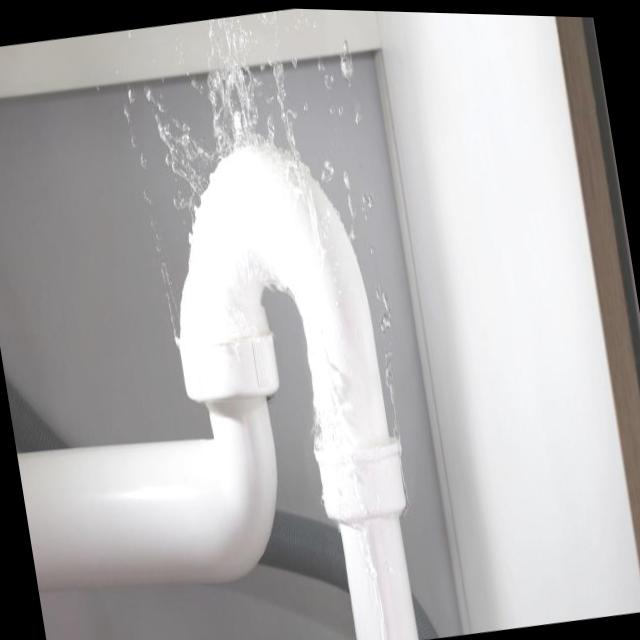leak: (207, 25, 277, 158), (292, 154, 305, 189)
